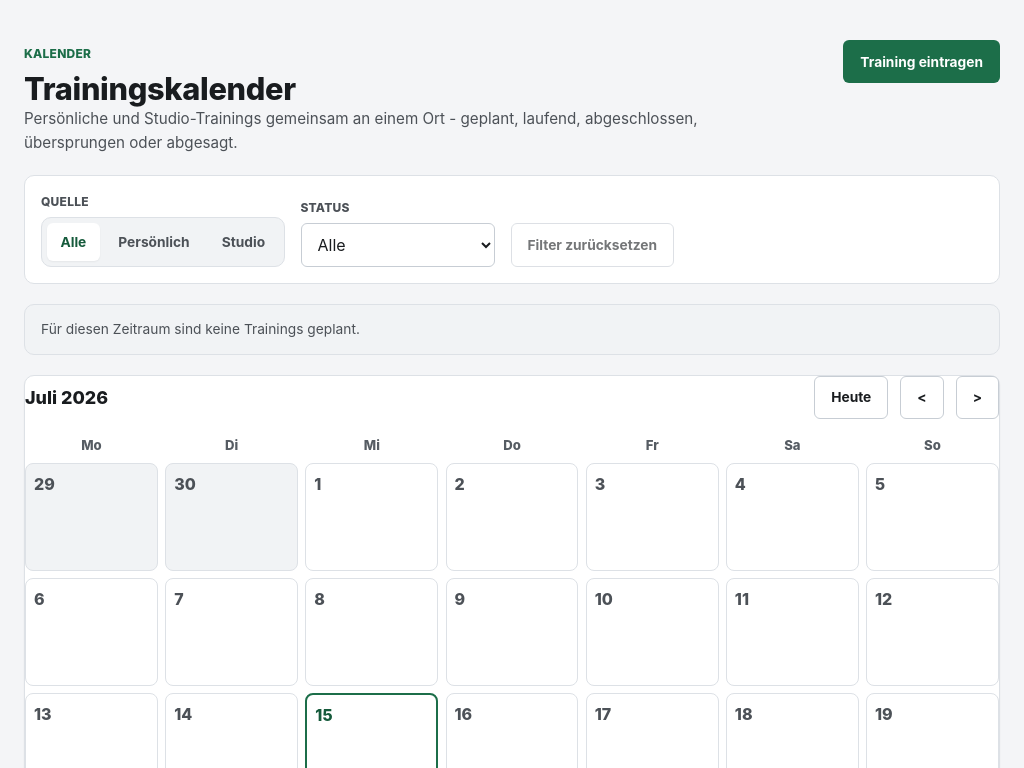
CalendarView › month boundary: navigating from July into August shows an entry actually scheduled in August
The image size is (1024, 768).
Click the button named "Nächster Monat" at x=977, y=397, box x1=956 y1=376 x2=999 y2=419
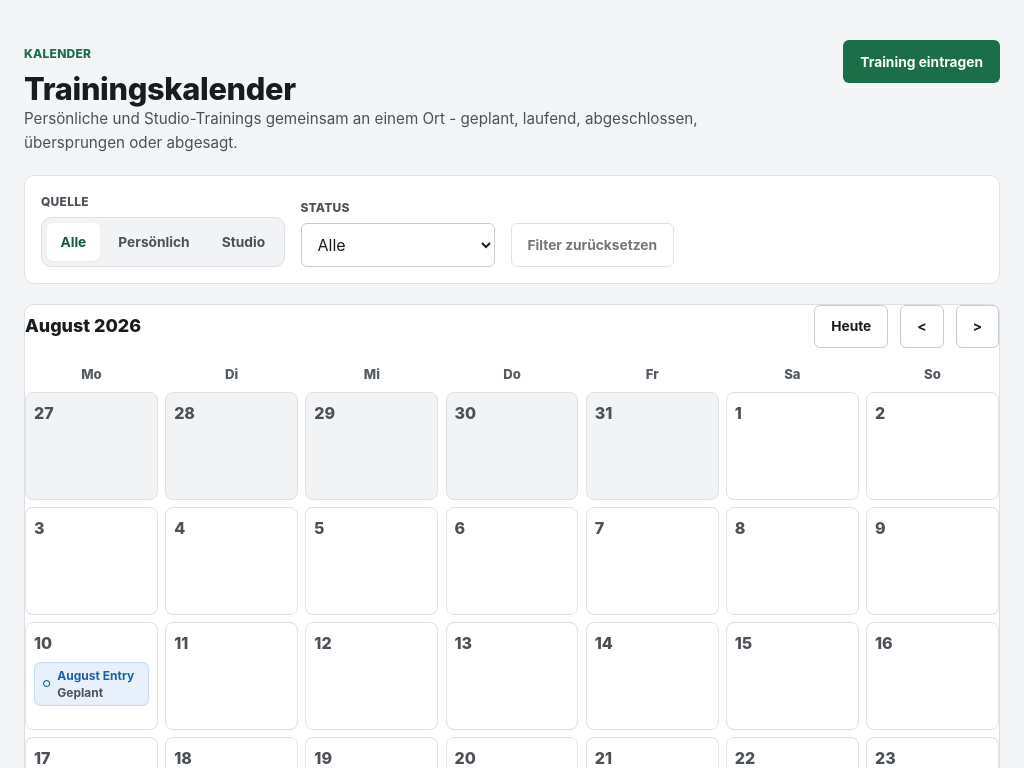
Expected: the text "August 2026" is shown, x1=25 y1=315 x2=141 y2=337
Expected: the text "August Entry" is shown, x1=57 y1=668 x2=141 y2=683
